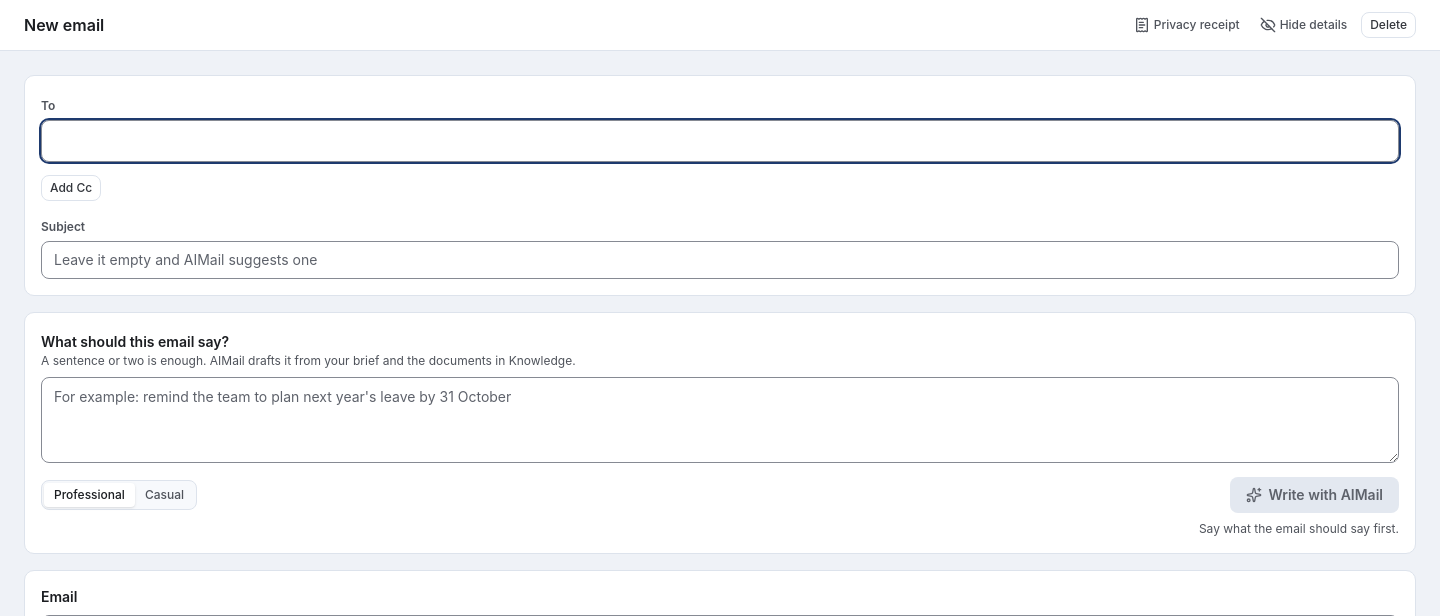
Test: the Cc toggle says whether Cc is shown
This screenshot has width=1440, height=616.
Expected: the text box labelled "What should this email say?" is shown, [41,377,1399,463]
Click the button "Add Cc" at (71,188), box [41,175,101,201]
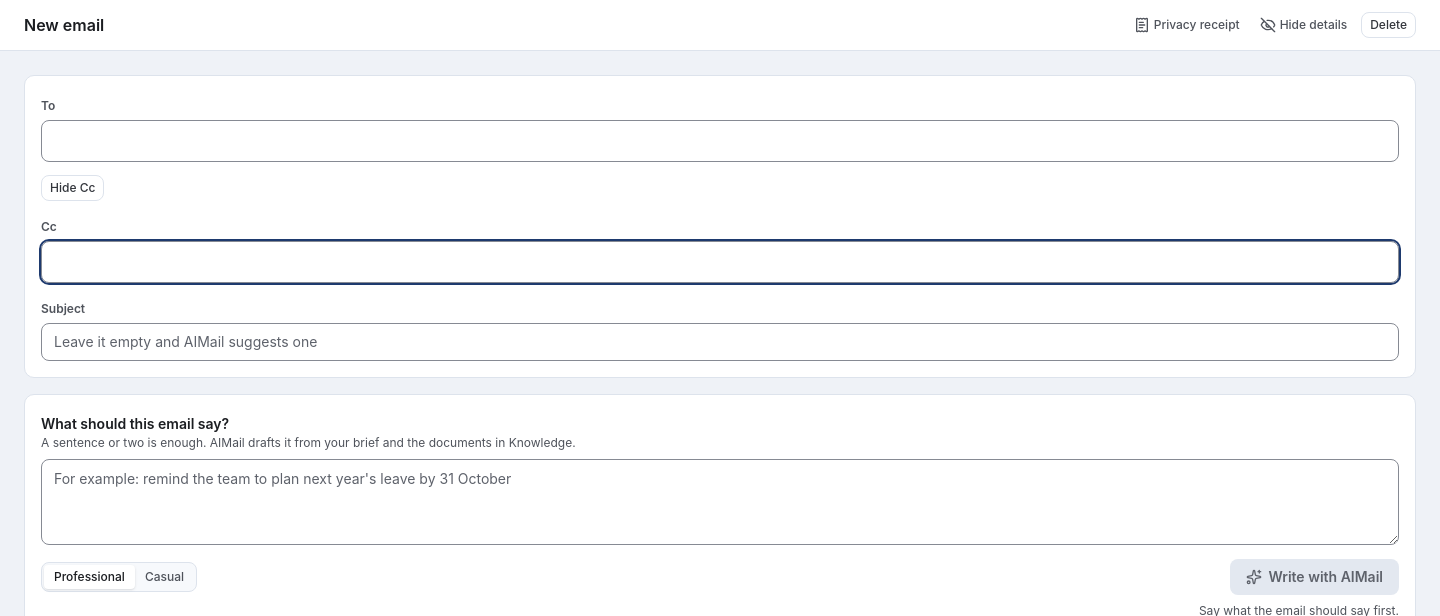
Now the button "Hide Cc" is expanded, box [41,175,104,201]
